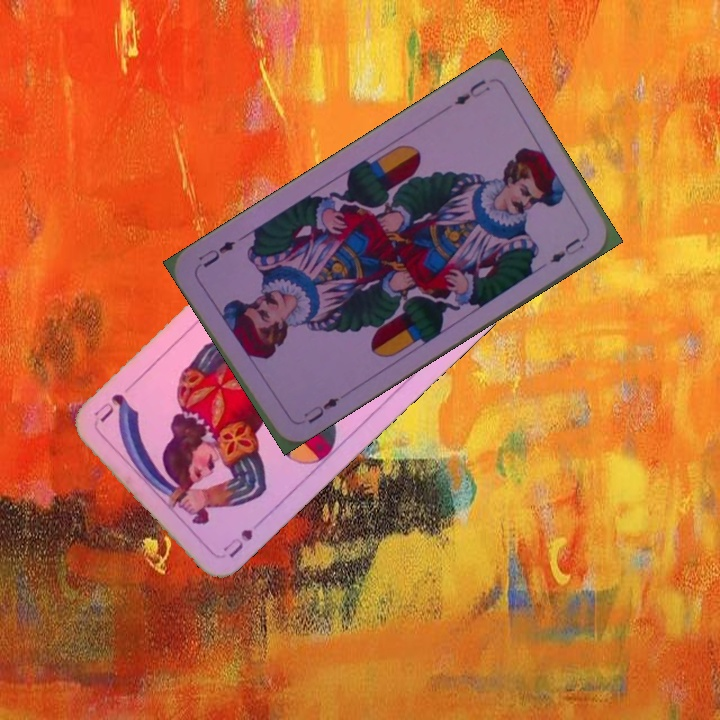EU: (299, 393, 343, 427), (450, 75, 493, 108)
SU: (218, 513, 268, 561)
